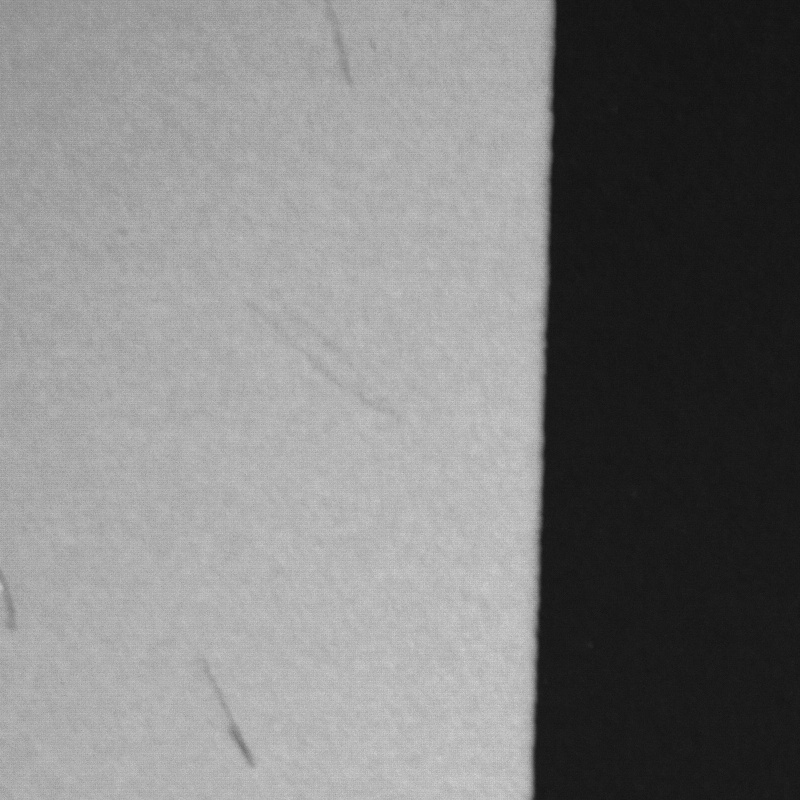defect: (246, 297, 398, 418), (202, 657, 263, 775), (323, 1, 350, 90), (1, 570, 16, 628)
